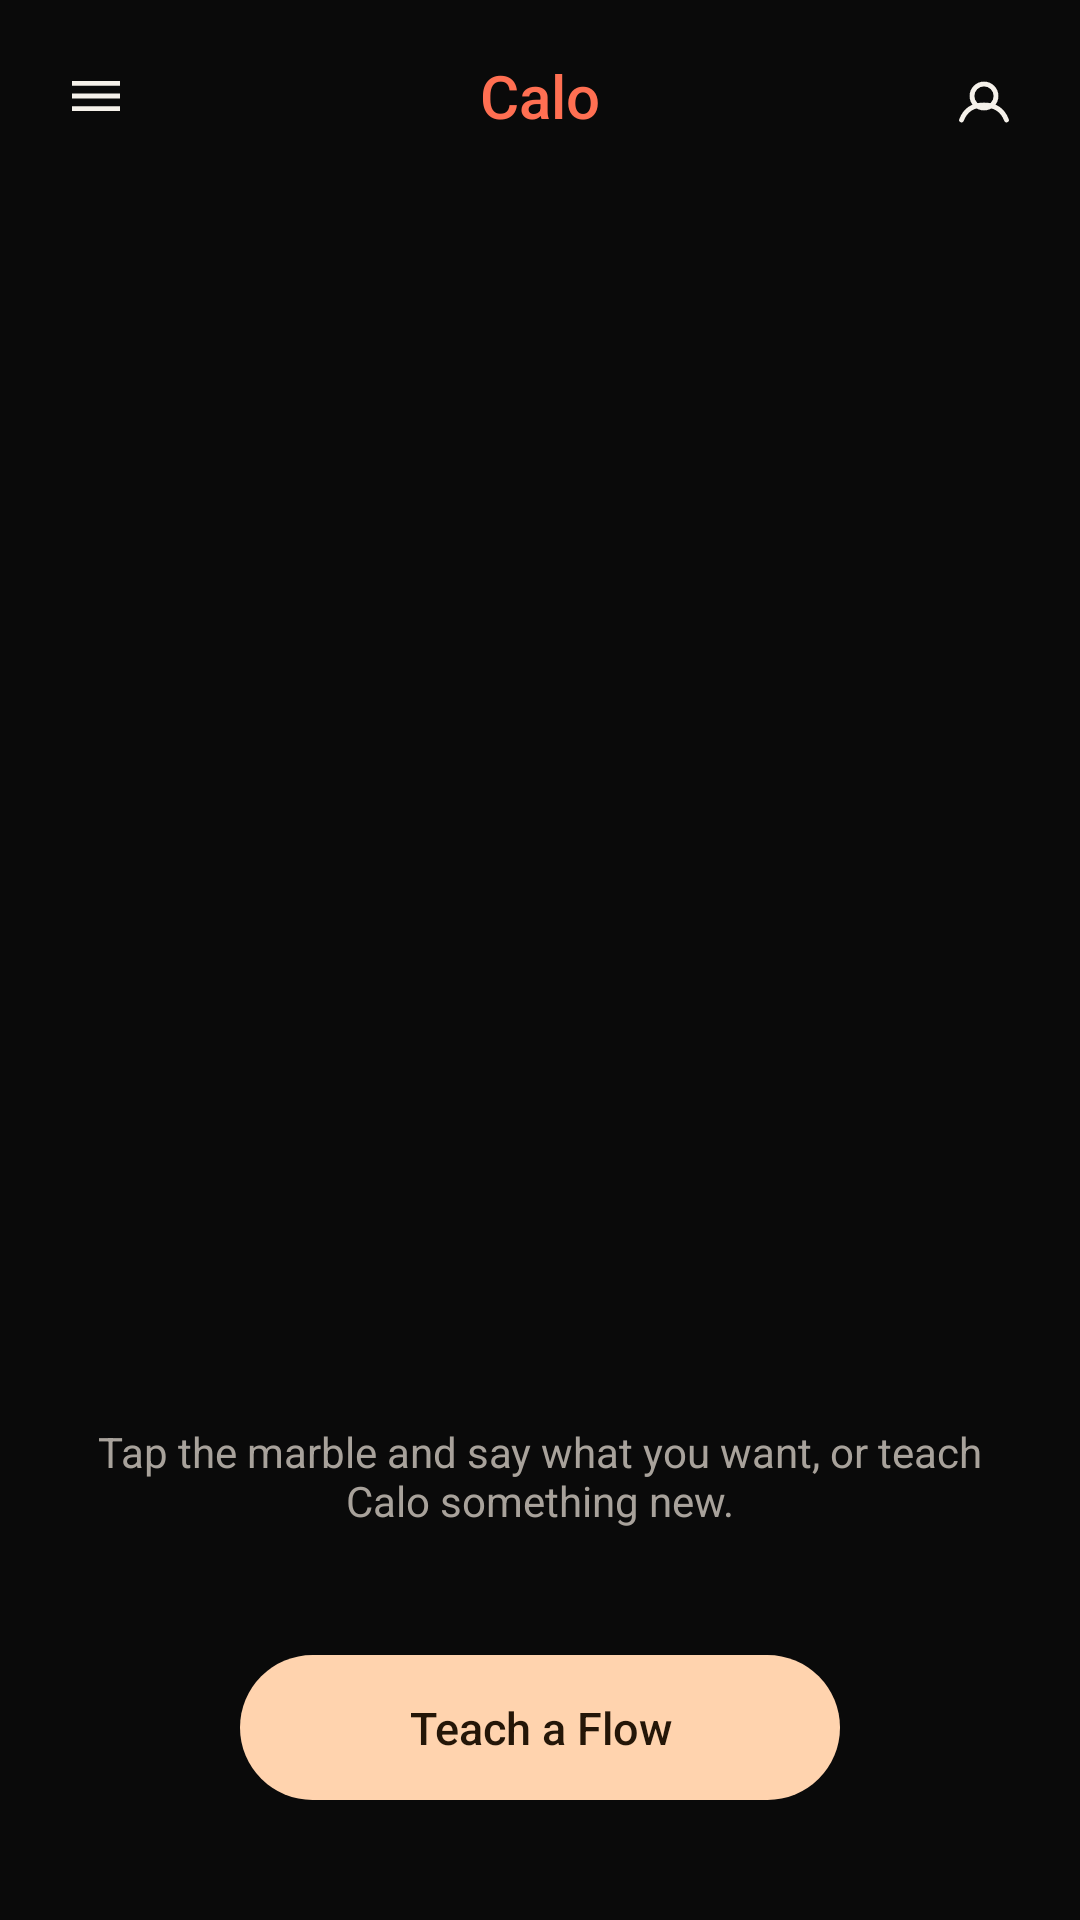

Icon click points for this 1080×1920 phone screenshot, format point (x, y):
Menu: point (96, 96)
Profile: point (984, 102)
